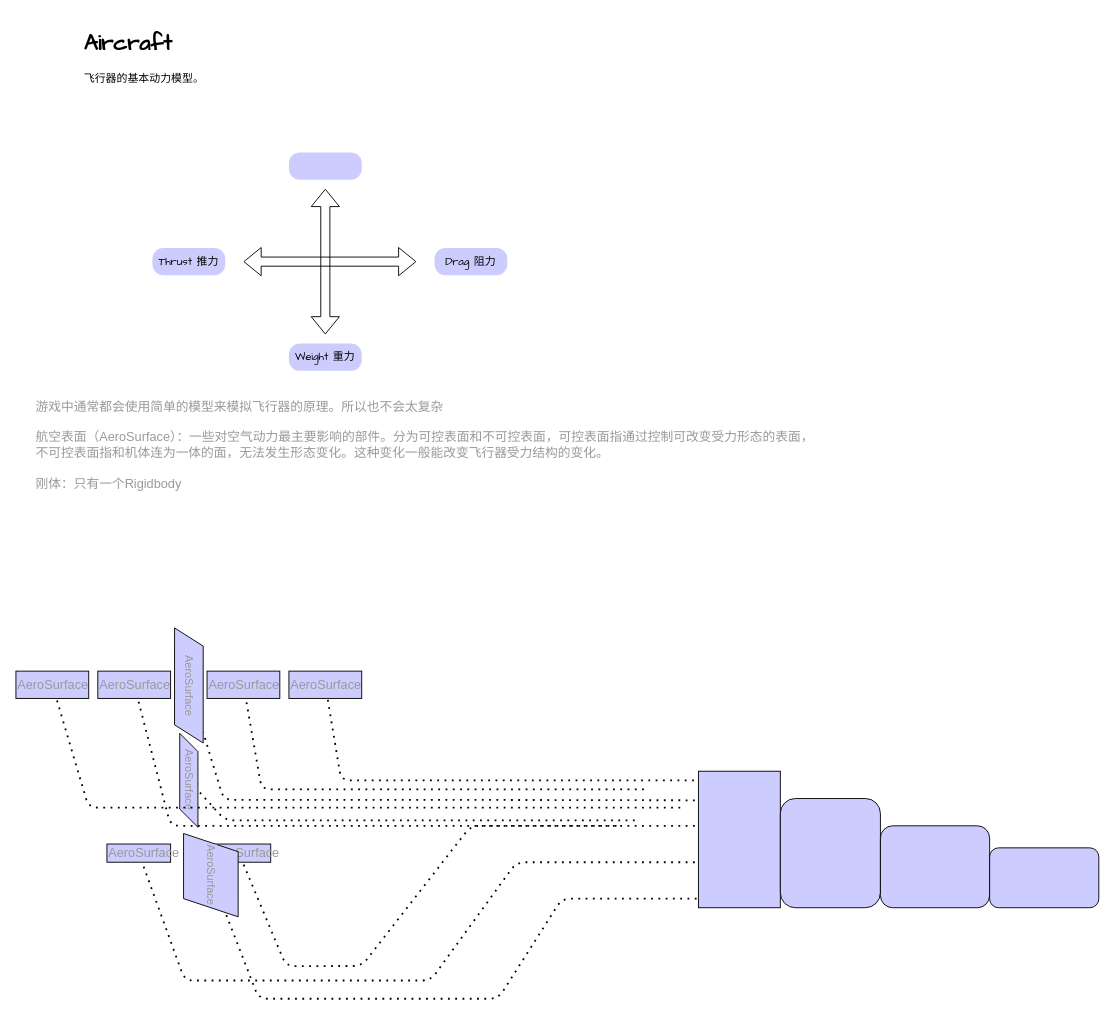
Some shapes in this 1115 by 1016 pixel diagram are drawn without their labels. Here are the shapes that lost their labels. From the top down, the box of each, then its label:
(288, 152, 361, 179): Lift 升力
(698, 770, 780, 908): AircraftPhysics
(779, 798, 880, 908): AirplaneController
(880, 825, 990, 908): AIController
(989, 847, 1099, 908): HumanController
